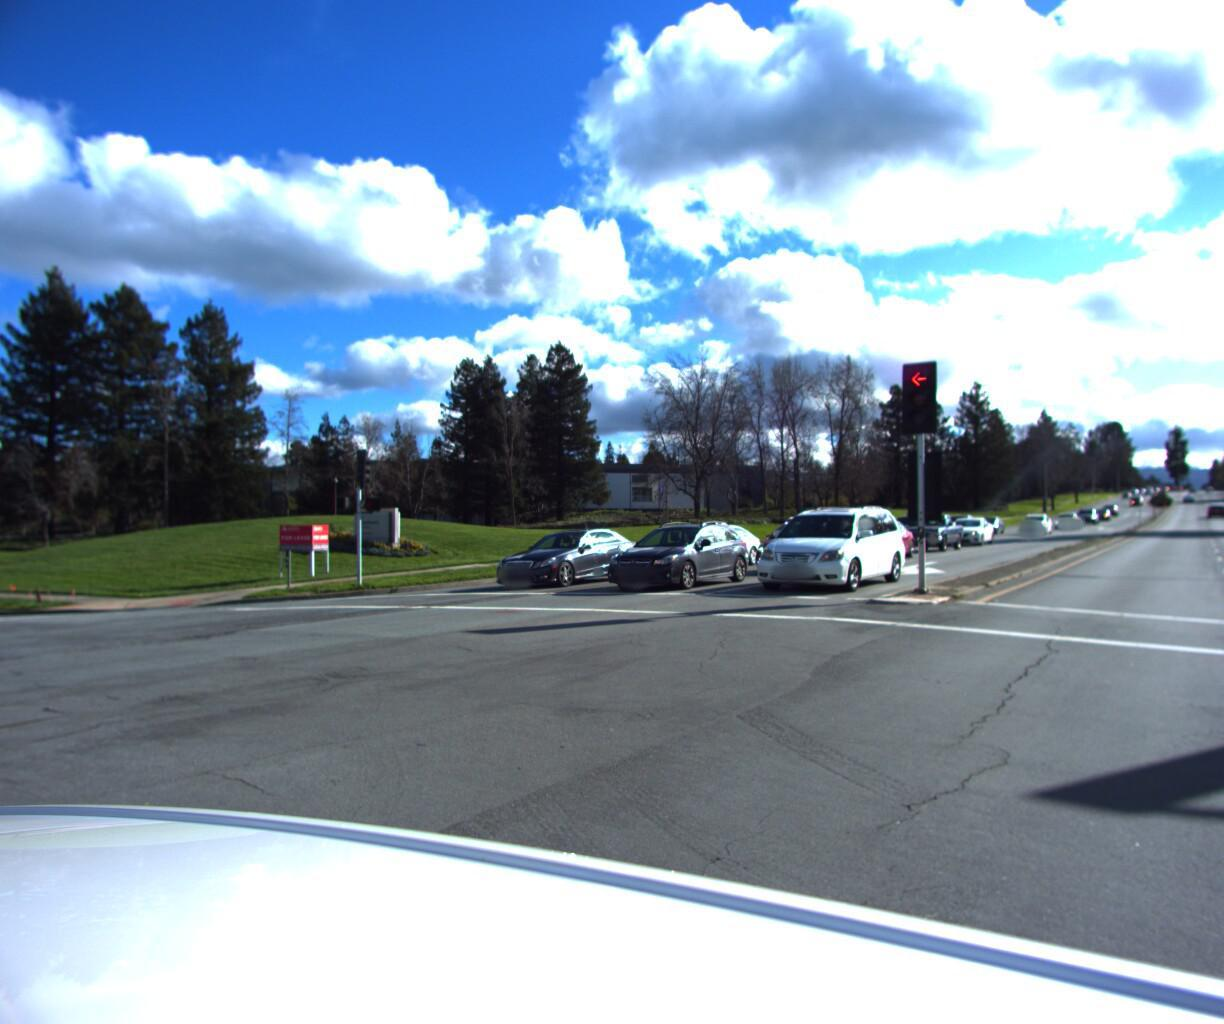car: (743, 495, 911, 596), (592, 519, 745, 595), (482, 527, 644, 591), (744, 517, 857, 574), (653, 520, 758, 568), (828, 519, 919, 562), (896, 510, 965, 551), (937, 515, 999, 545), (1012, 513, 1054, 533), (1049, 513, 1079, 530)
